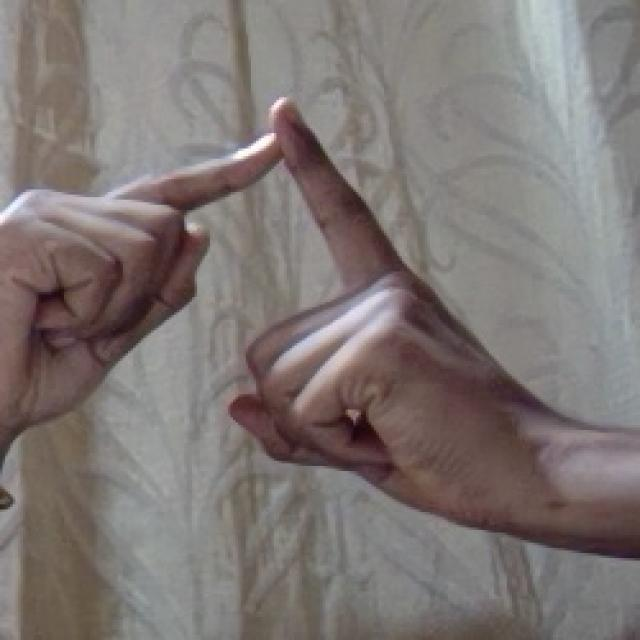Alphabet-E: (0, 97, 640, 559)
